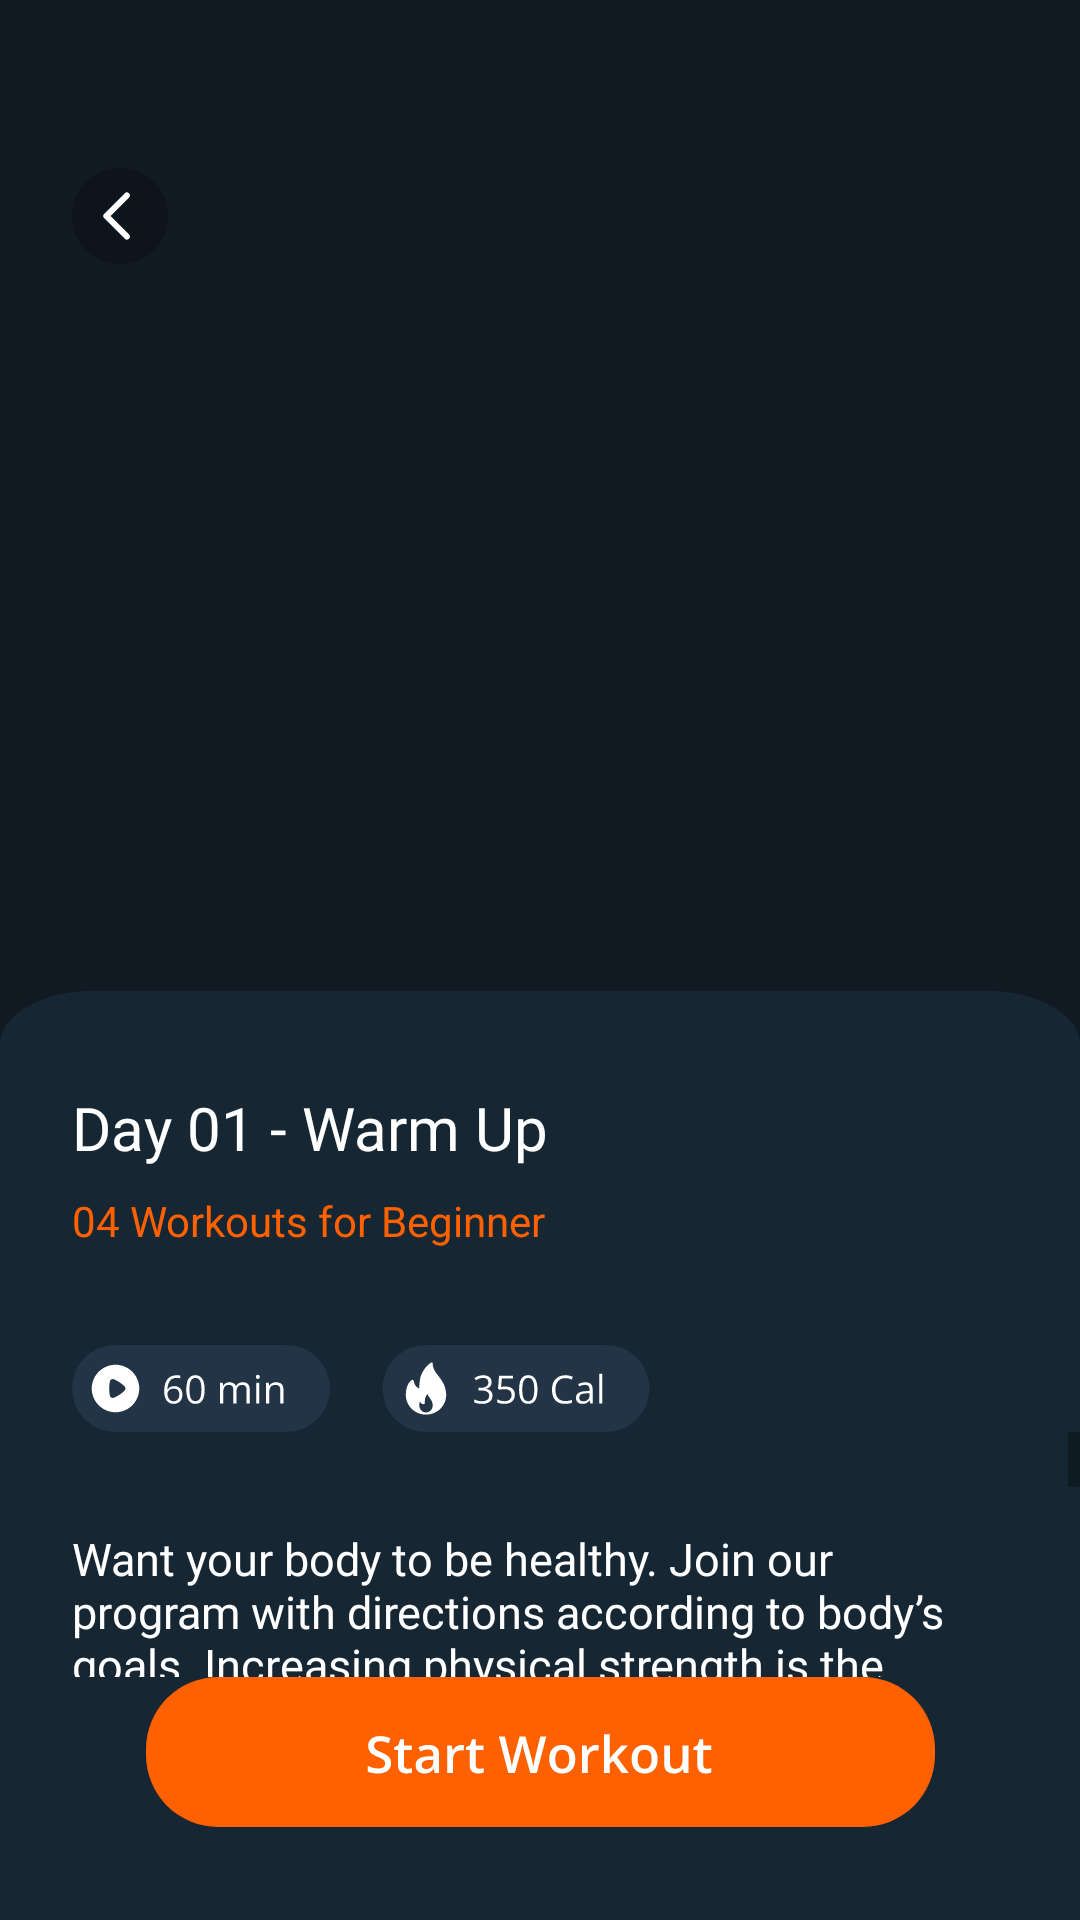

Named icons in this screenshot (1080×1920) and their centers, (x,y):
back workout plan detail: (116,216)
